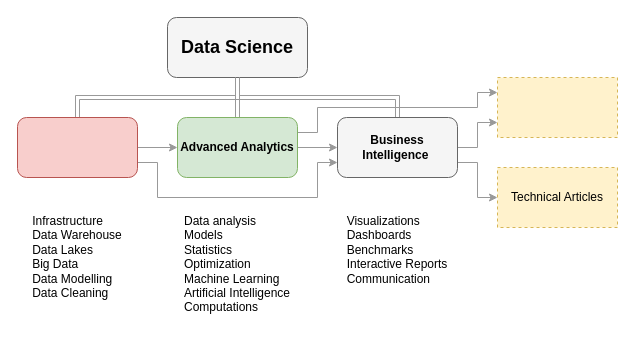
Image size: 635x345. Some labels were removed from this diagram. The shapes that lost their labels are listed below. From the top down, each one's box as (x1, y1, x2, y2) in pixels, then its label:
(496, 76, 618, 138): Software Solutions
(16, 116, 138, 178): Data Engineering
